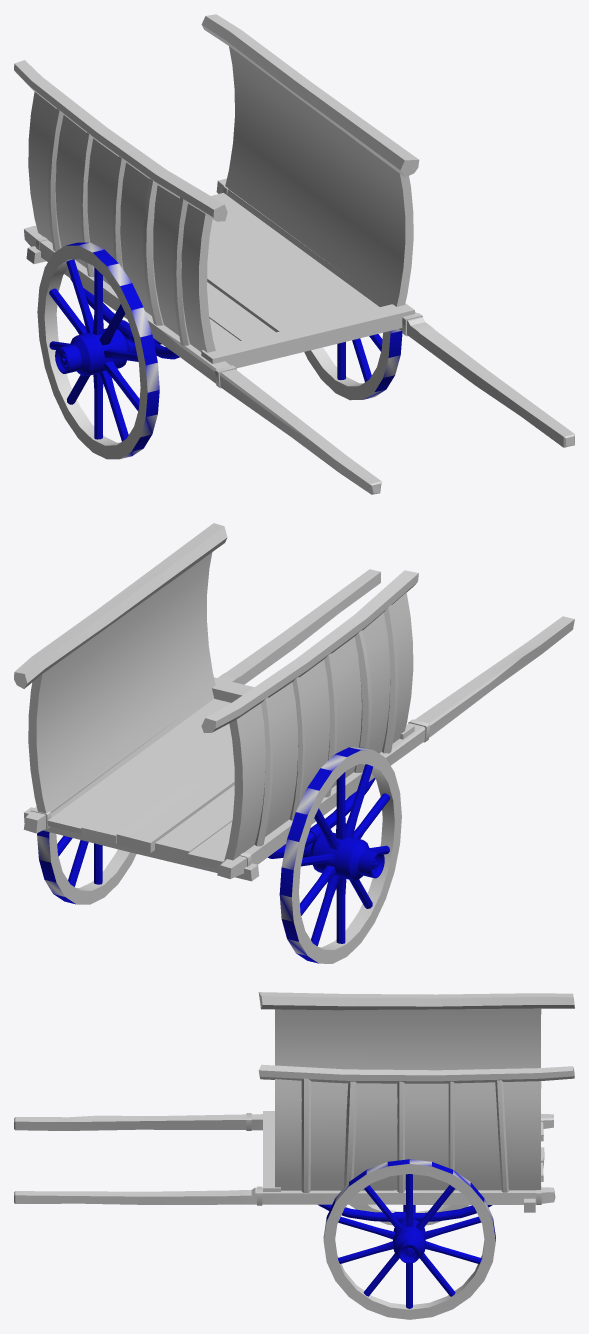
Rendered from WoodenCarteAssetPack.fbx.
3 views of the same model, one above another, from view 1: azimuth 30°, elevation 25°; view 2: azimuth 150°, elevation 25°; view 3: azimuth 270°, elevation 25° (orthographic). The views are drawn at different scales.
Parts seen in each view (by area): view 1: SM_Cart_LOD0; view 2: SM_Cart_LOD0; view 3: SM_Cart_LOD0.
Boxes of the visible parts, <box> form: SM_Cart_LOD0: <box>14,14,574,494</box>; SM_Cart_LOD0: <box>14,523,574,963</box>; SM_Cart_LOD0: <box>14,992,574,1319</box>.
Bounding box in the file's own units: 183 × 170 × 359.
